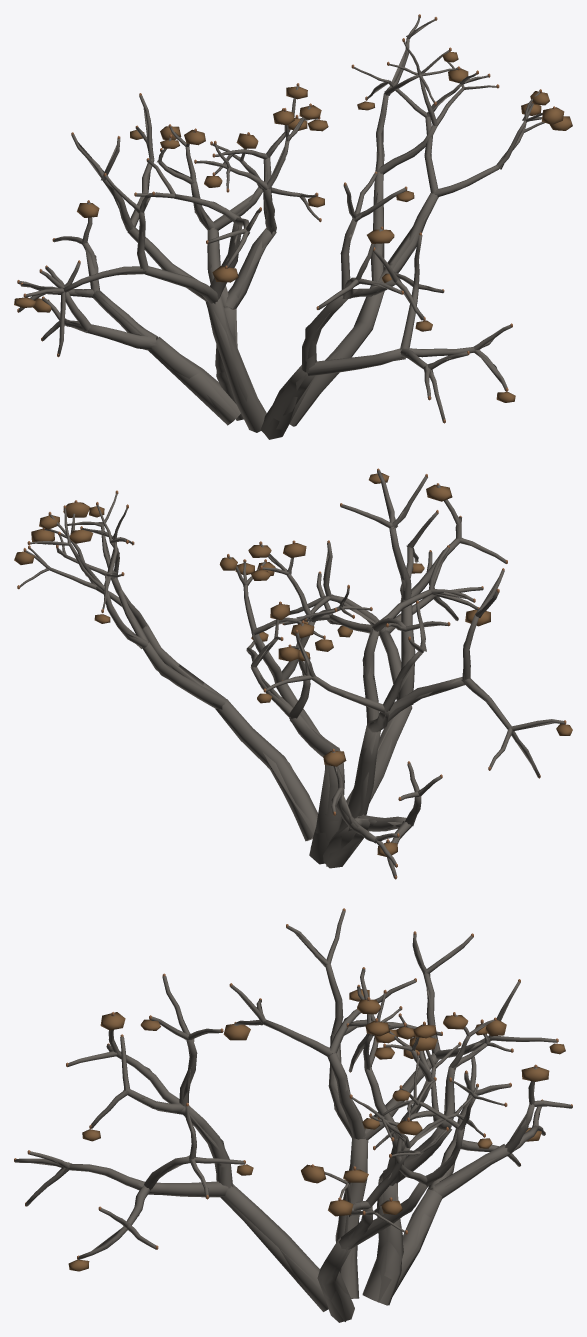
File: scrub_oak_2.glb
3 renders of one model, top to bottom at view 1: azimuth 30°, elevation 25°; view 2: azimuth 150°, elevation 25°; view 3: azimuth 270°, elevation 25°, orthographic. The views are drawn at different scales.
Visible parts, largest first — view 1: ScrubOak_Far_Bark, ScrubOak_LimbWood_3, ScrubOak_LimbWood_4, ScrubOak_LimbWood_0, ScrubOak_LimbWood_1, ScrubOak_LimbWood_2; view 2: ScrubOak_Far_Bark, ScrubOak_LimbWood_3, ScrubOak_LimbWood_0, ScrubOak_LimbWood_4, ScrubOak_LimbWood_1, ScrubOak_LimbWood_2; view 3: ScrubOak_LimbWood_4, ScrubOak_Far_Bark, ScrubOak_LimbWood_3, ScrubOak_LimbWood_0, ScrubOak_LimbWood_1, ScrubOak_LimbWood_2.
Part boxes in pixels (bbox=[...]): ScrubOak_Far_Bark: bbox=[30, 23, 540, 439]; ScrubOak_LimbWood_3: bbox=[21, 95, 266, 432]; ScrubOak_LimbWood_4: bbox=[261, 173, 512, 432]; ScrubOak_LimbWood_0: bbox=[290, 16, 544, 426]; ScrubOak_LimbWood_1: bbox=[158, 86, 319, 420]; ScrubOak_LimbWood_2: bbox=[18, 202, 240, 425]; ScrubOak_Far_Bark: bbox=[34, 481, 555, 866]; ScrubOak_LimbWood_3: bbox=[266, 547, 564, 829]; ScrubOak_LimbWood_0: bbox=[20, 493, 318, 841]; ScrubOak_LimbWood_4: bbox=[284, 470, 506, 805]; ScrubOak_LimbWood_1: bbox=[228, 544, 371, 864]; ScrubOak_LimbWood_2: bbox=[323, 751, 441, 878]; ScrubOak_LimbWood_4: bbox=[14, 976, 328, 1311]; ScrubOak_Far_Bark: bbox=[28, 925, 559, 1321]; ScrubOak_LimbWood_3: bbox=[230, 910, 556, 1298]; ScrubOak_LimbWood_0: bbox=[317, 1055, 504, 1322]; ScrubOak_LimbWood_1: bbox=[348, 993, 511, 1305]; ScrubOak_LimbWood_2: bbox=[396, 1056, 572, 1285].
Size of what is drawn, in the model's own units: 4.79 by 2.74 by 3.99.
